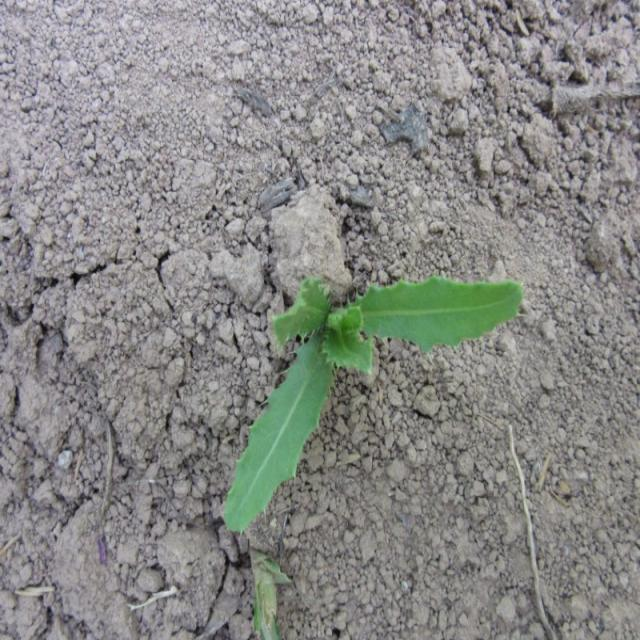cs: (219, 272, 525, 538)
